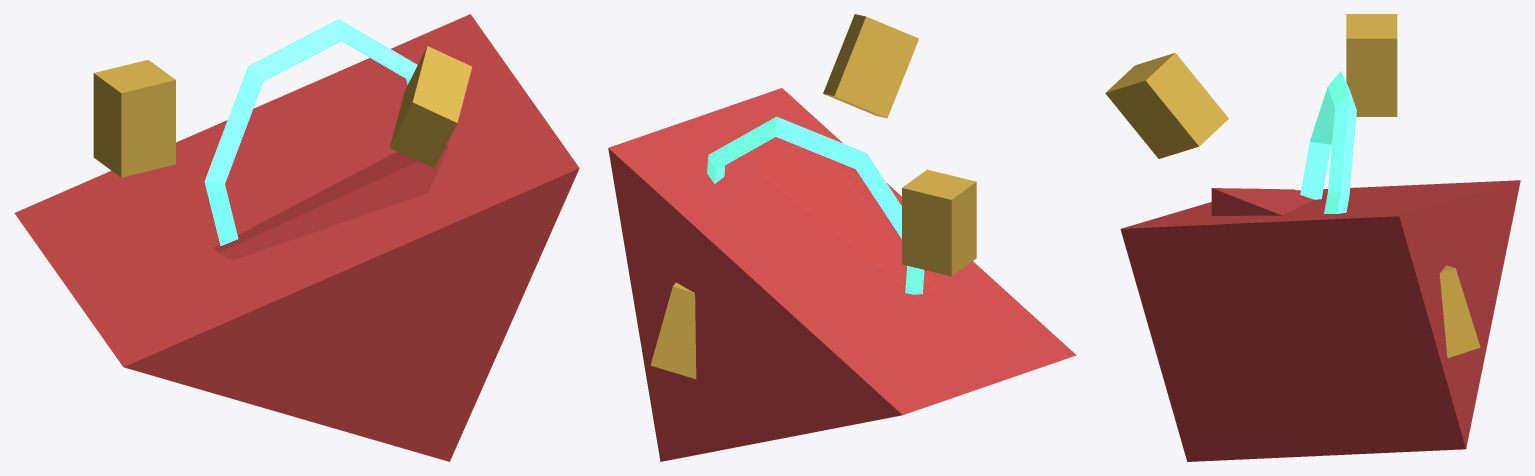
Rendered from damage_effect__critical.glb.
The picture shows the model from 3 angles, left to right: view 1: azimuth 30°, elevation 25°; view 2: azimuth 150°, elevation 25°; view 3: azimuth 270°, elevation 25°; orthographic projection. The views are drawn at different scales.
Visible parts, largest first — view 1: ROLE_critical, ROLE_warning, ROLE_interaction; view 2: ROLE_critical, ROLE_warning, ROLE_interaction; view 3: ROLE_critical, ROLE_warning, ROLE_interaction.
Boxes of the visible parts, x1=… form: ROLE_critical: x1=14, y1=14, x2=579, y2=461; ROLE_warning: x1=93, y1=46, x2=471, y2=177; ROLE_interaction: x1=204, y1=19, x2=417, y2=245; ROLE_critical: x1=608, y1=88, x2=1076, y2=461; ROLE_warning: x1=650, y1=14, x2=976, y2=379; ROLE_interaction: x1=707, y1=116, x2=924, y2=294; ROLE_critical: x1=1120, y1=180, x2=1520, y2=461; ROLE_warning: x1=1105, y1=14, x2=1480, y2=358; ROLE_interaction: x1=1300, y1=71, x2=1356, y2=213.
Bounding box in the file's own units: 4 × 3.78 × 3.6.
